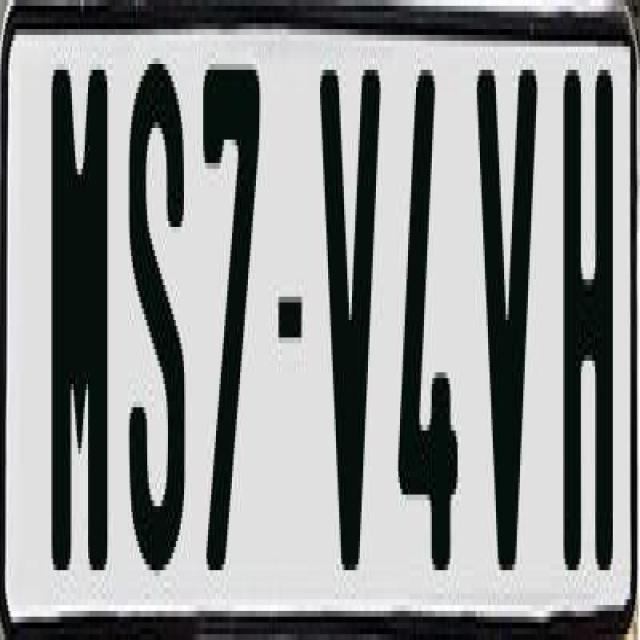4: (397, 64, 459, 570)
7: (202, 64, 261, 564)
H: (560, 58, 614, 588)
M: (50, 70, 114, 600)
S: (126, 58, 188, 576)
V: (317, 59, 386, 565), (477, 70, 539, 594)
